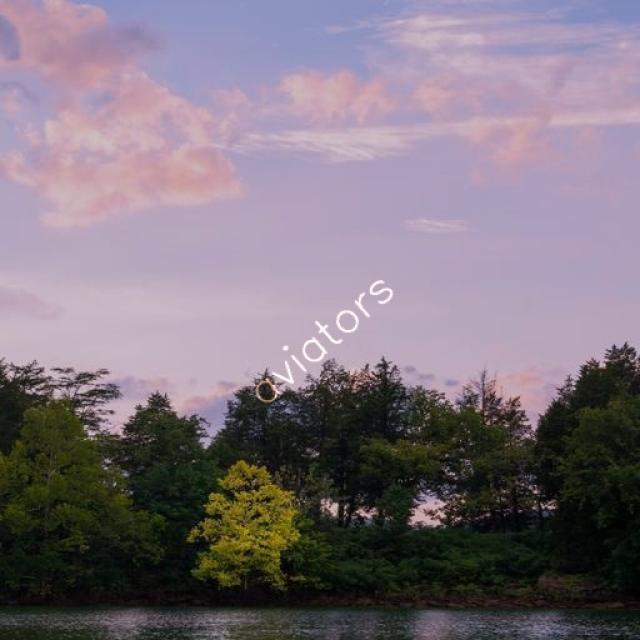watermark: (252, 258, 396, 416)
